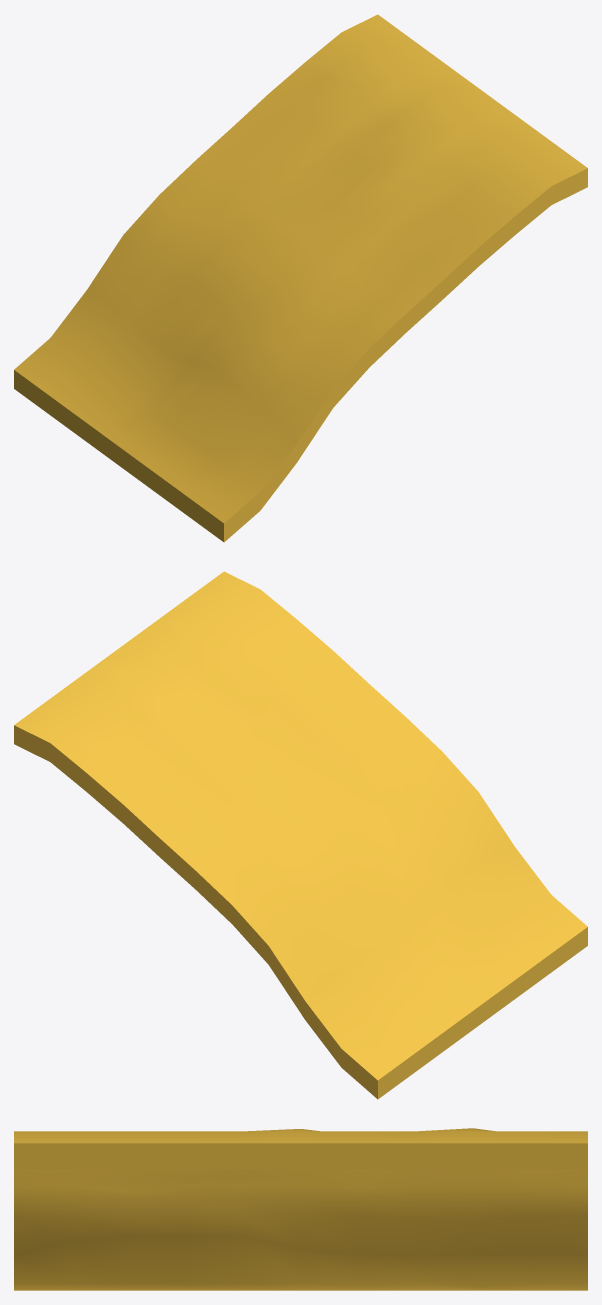
File: Steil - Mitte - Hügle b - b.fbx
The picture shows the model from 3 angles, top to bottom: view 1: azimuth 30°, elevation 25°; view 2: azimuth 150°, elevation 25°; view 3: azimuth 270°, elevation 25°; orthographic projection. The views are drawn at different scales.
Visible parts, largest first — view 1: Steil - Mitte - Hügle b - b; view 2: Steil - Mitte - Hügle b - b; view 3: Steil - Mitte - Hügle b - b.
Boxes of the visible parts, bbox=[...] form: Steil - Mitte - Hügle b - b: bbox=[14, 14, 587, 542]; Steil - Mitte - Hügle b - b: bbox=[14, 571, 587, 1099]; Steil - Mitte - Hügle b - b: bbox=[14, 1128, 587, 1290].
Size of the model in its own units: 394 by 295 by 394.
